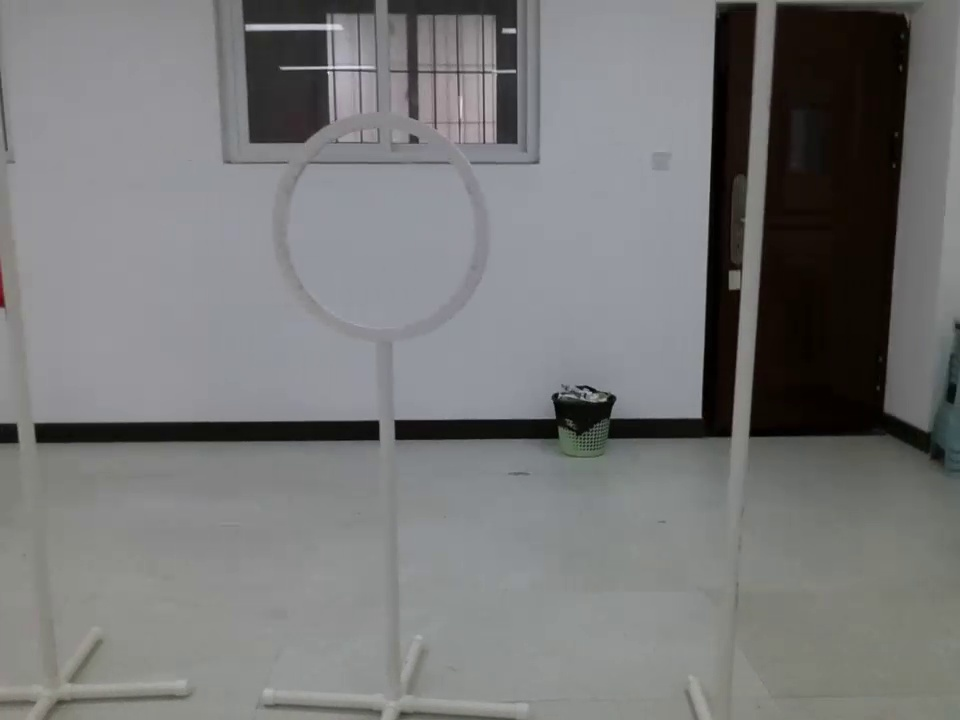gan: (708, 1, 781, 705)
quan: (275, 114, 486, 338)
